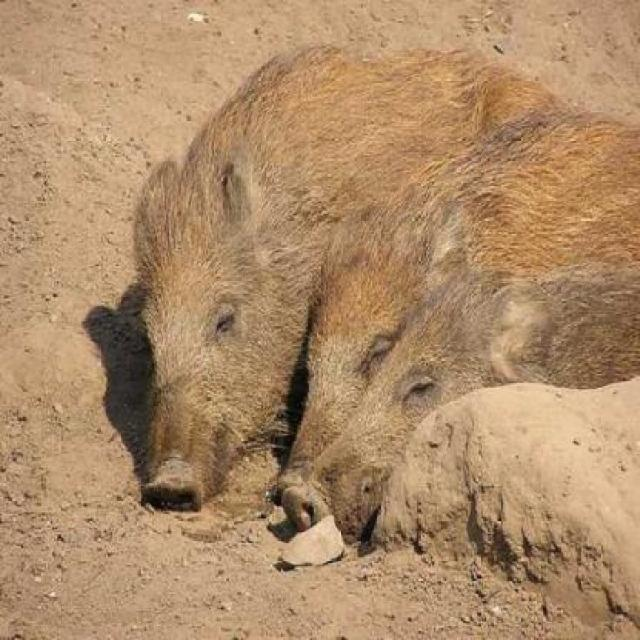pig: (119, 41, 338, 544)
